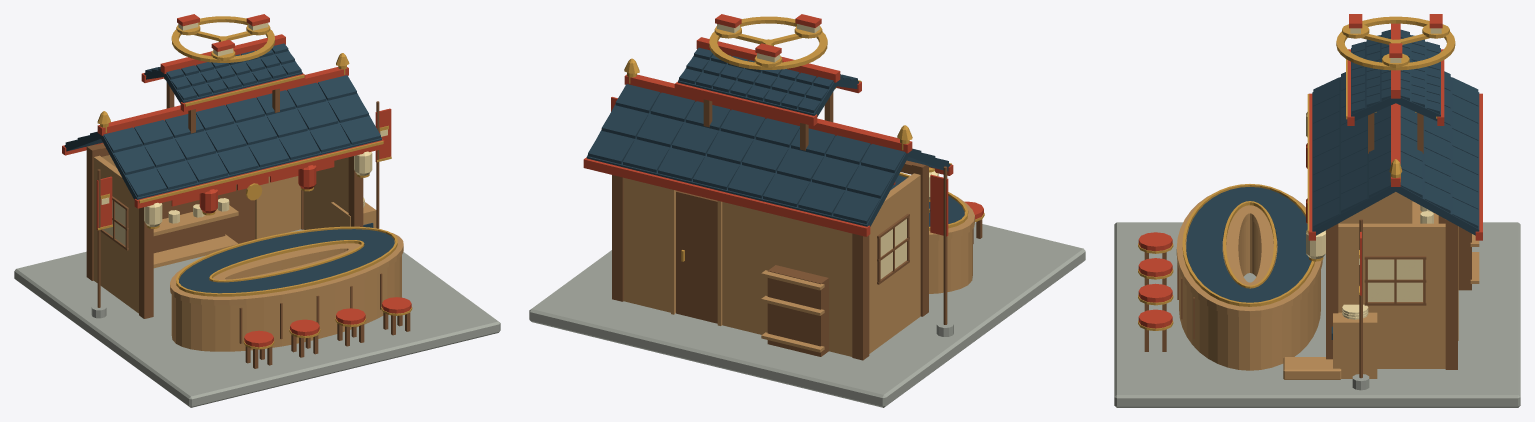
File: conveyor-lv4.glb
3 views of the same model, side by side, from view 1: azimuth 30°, elevation 25°; view 2: azimuth 150°, elevation 25°; view 3: azimuth 270°, elevation 25° (orthographic). The views are drawn at different scales.
Visible parts, largest first — view 1: Conveyor_L4, Crown_Carousel; view 2: Conveyor_L4, Crown_Carousel; view 3: Conveyor_L4, Crown_Carousel.
Boxes of the visible parts, left/top/right/bottom form: Conveyor_L4: left=14, top=34, right=500, bottom=407; Crown_Carousel: left=171, top=14, right=274, bottom=62; Conveyor_L4: left=529, top=37, right=1085, bottom=407; Crown_Carousel: left=709, top=14, right=827, bottom=69; Conveyor_L4: left=1114, top=23, right=1520, bottom=407; Crown_Carousel: left=1336, top=14, right=1455, bottom=70.
Bounding box in the file's own units: 5.7 × 4.46 × 5.6.
